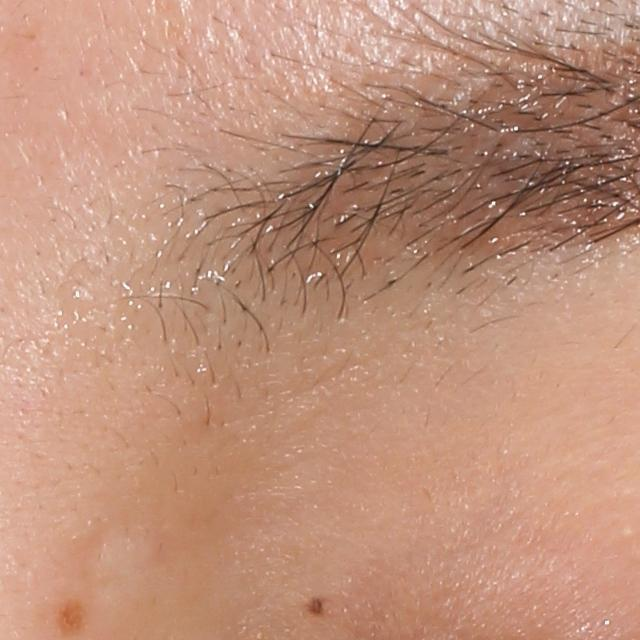nevus: (306, 594, 324, 617)
